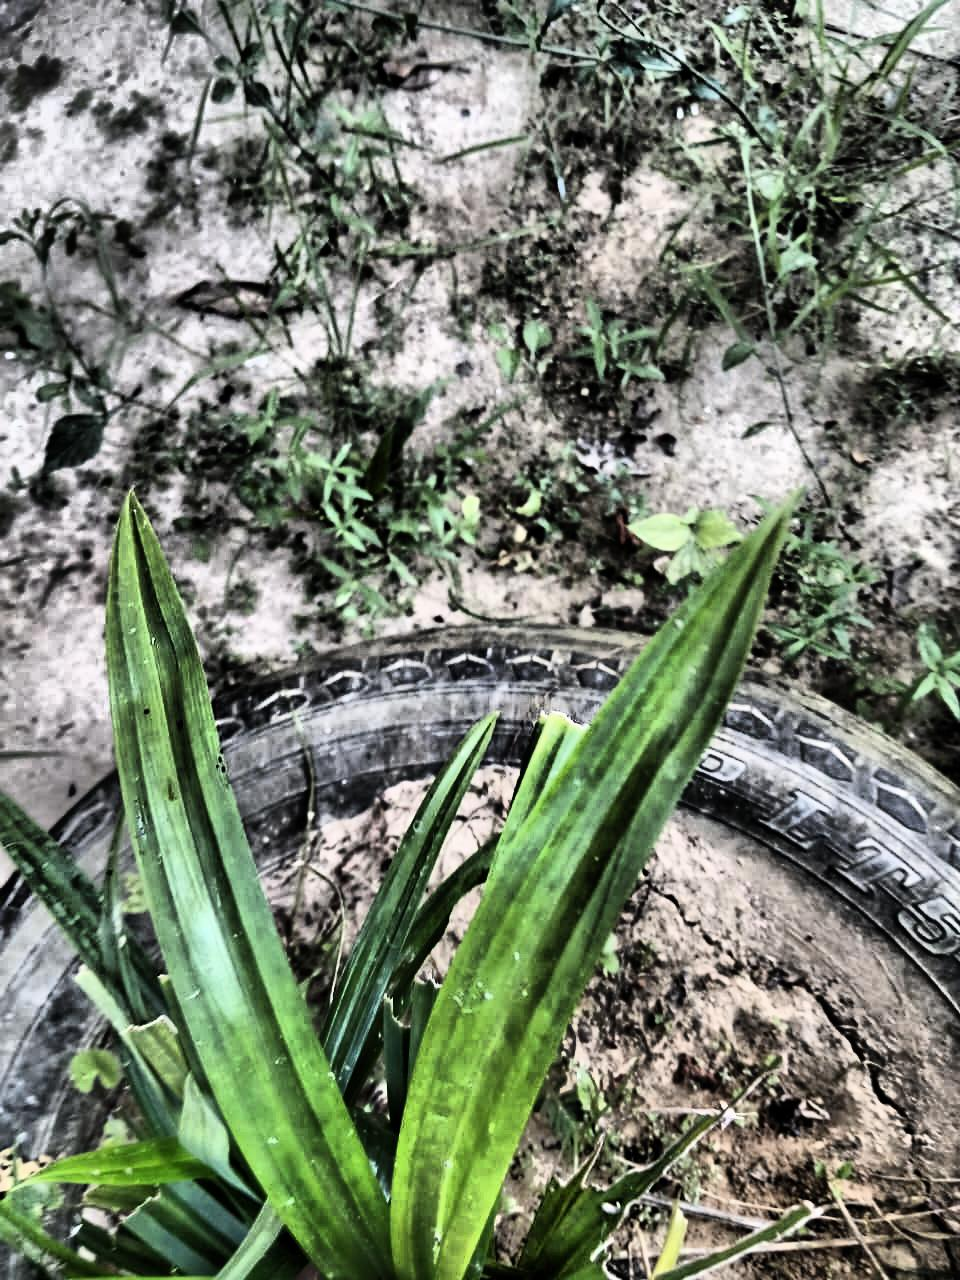daun pandan: (0, 496, 789, 1279)
